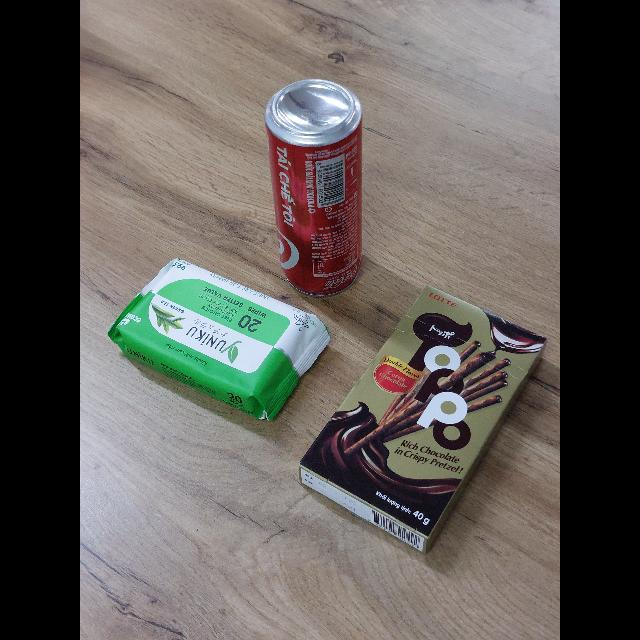banh_toppo_socola: (299, 286, 545, 553)
coca_cola: (265, 80, 362, 296)
khan_giay: (108, 258, 330, 420)
